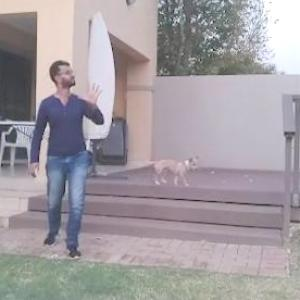follow_hand: (76, 77, 108, 108)
